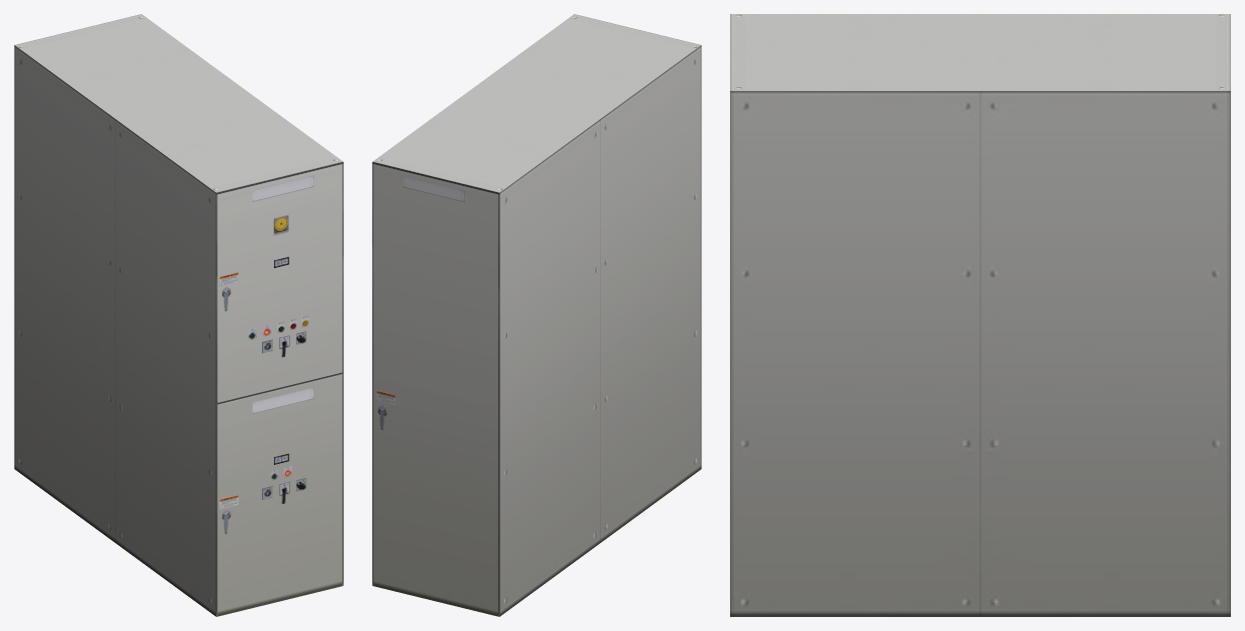
3 views of the same model, side by side, from view 1: azimuth 30°, elevation 25°; view 2: azimuth 150°, elevation 25°; view 3: azimuth 270°, elevation 25° (orthographic). The views are drawn at different scales.
Visible parts, largest first — view 1: LV-H1-D012; view 2: LV-H1-D012; view 3: LV-H1-D012.
Part boxes in pixels (x1,y1,x2,y2): LV-H1-D012: (14,14,343,616); LV-H1-D012: (372,14,701,616); LV-H1-D012: (730,14,1230,616).
Bounding box in the file's own units: 0.8 × 2.55 × 2.2.
1 material, 1 textured.
